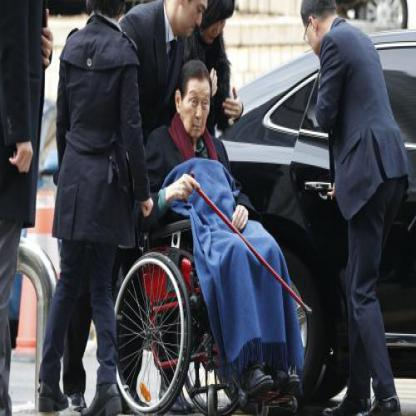wheelchair: (112, 56, 310, 415)
